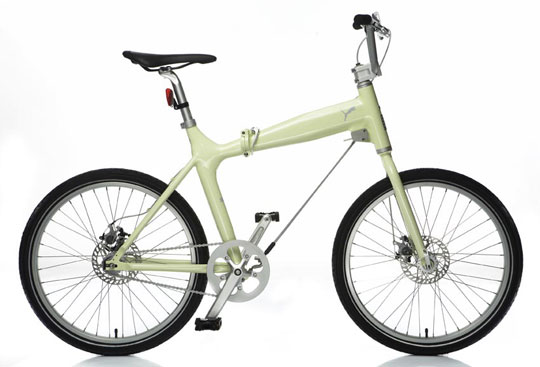bicycle: (8, 1, 538, 365)
